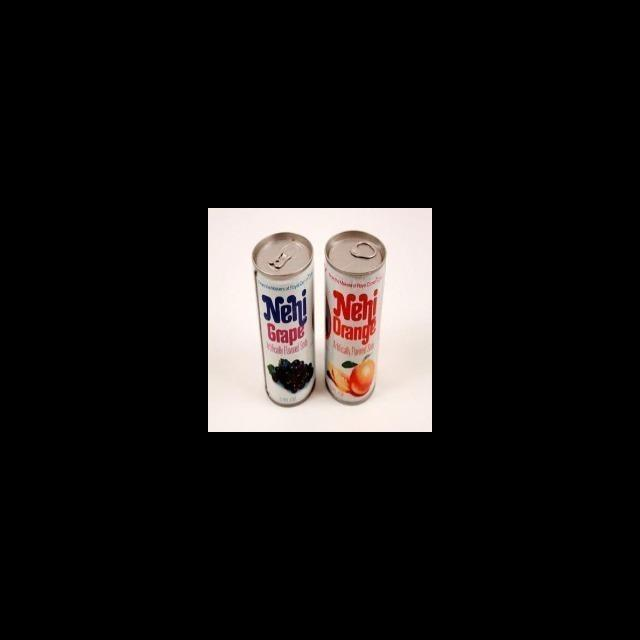metal: (246, 228, 320, 410), (320, 227, 383, 407)
